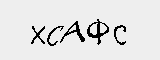А: (61, 20, 86, 42)
С: (112, 24, 131, 47), (47, 24, 63, 47)
Ф: (86, 18, 110, 46)
Х: (30, 25, 44, 47)
